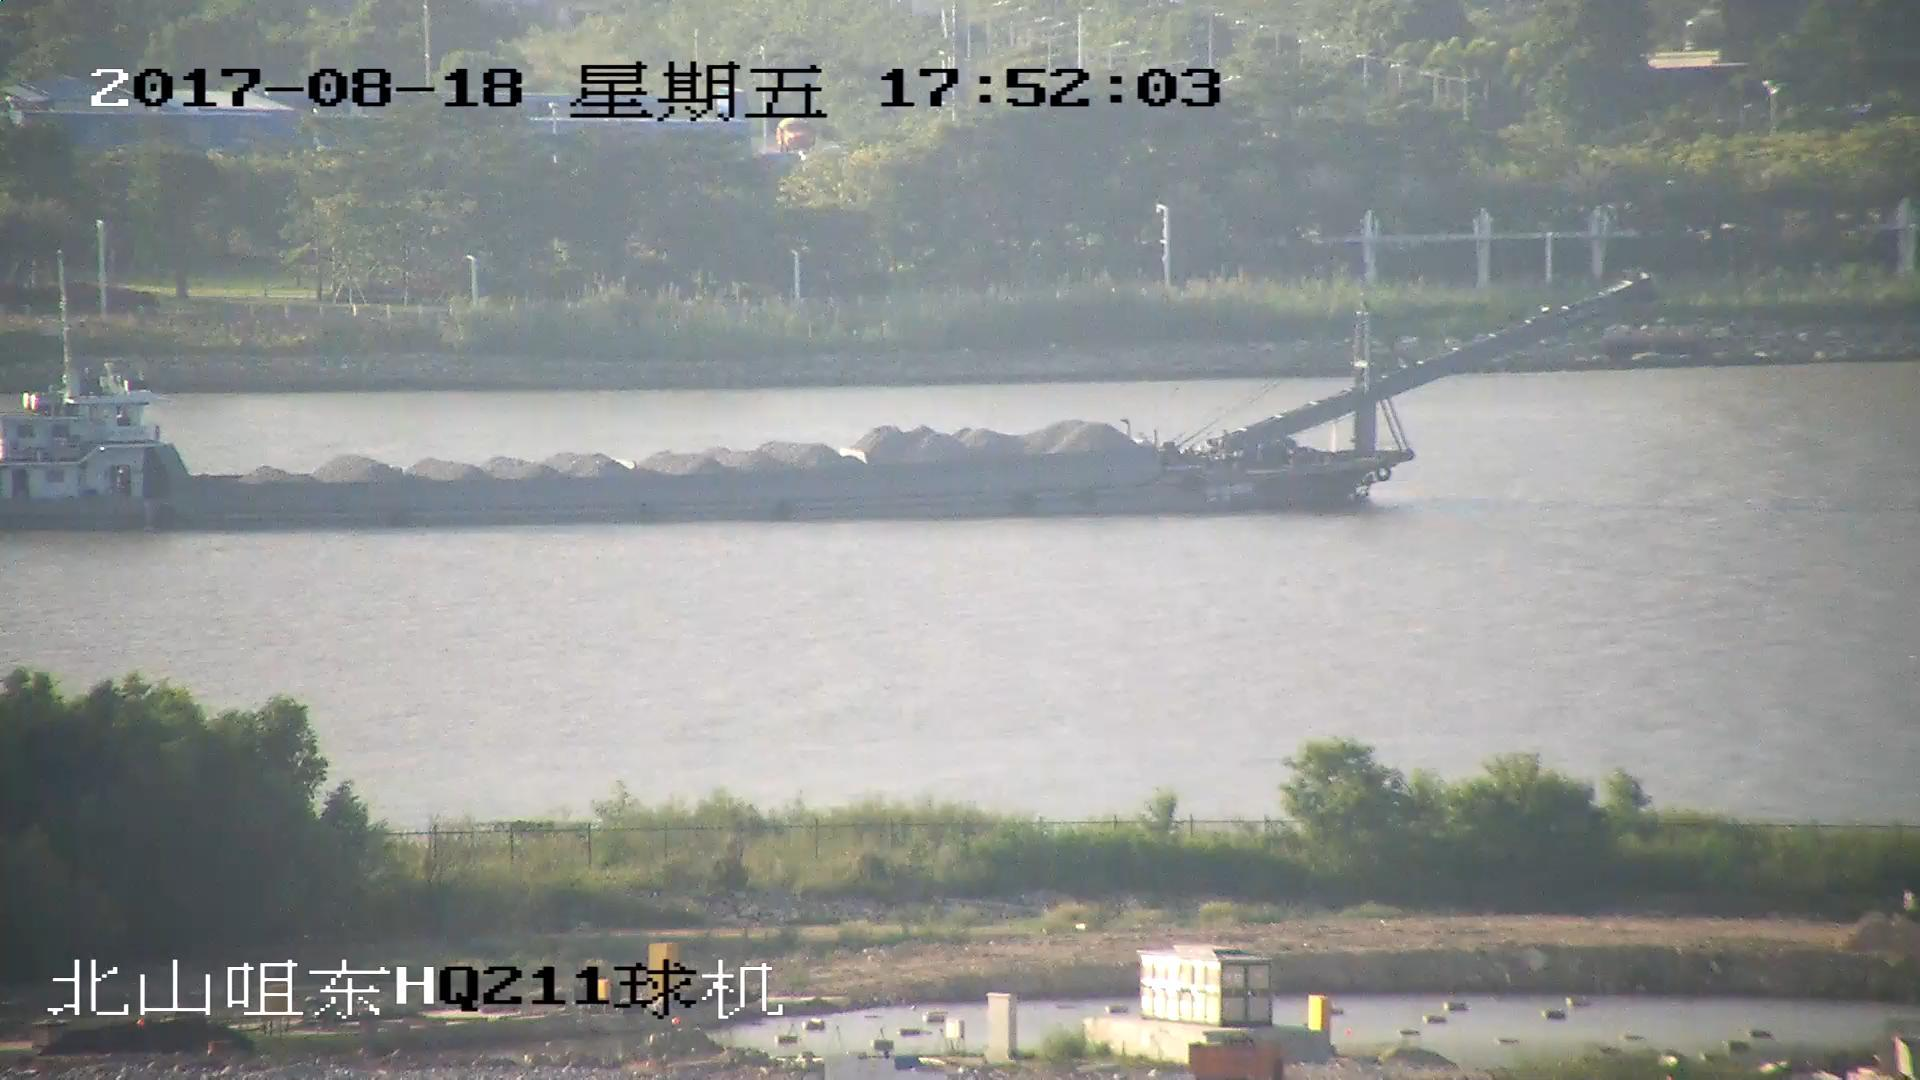Ship: (3, 276, 1652, 537)
